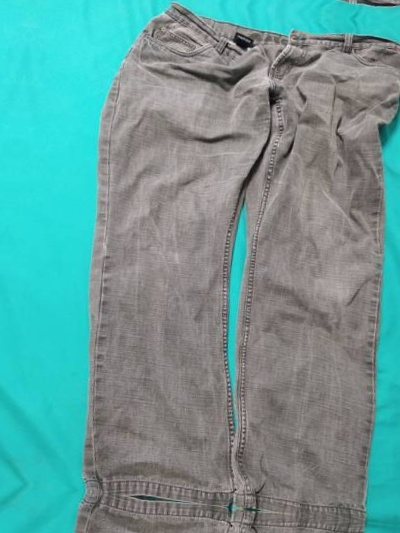Pants: (47, 1, 400, 521), (0, 491, 383, 533), (103, 0, 400, 17), (354, 532, 400, 533)
